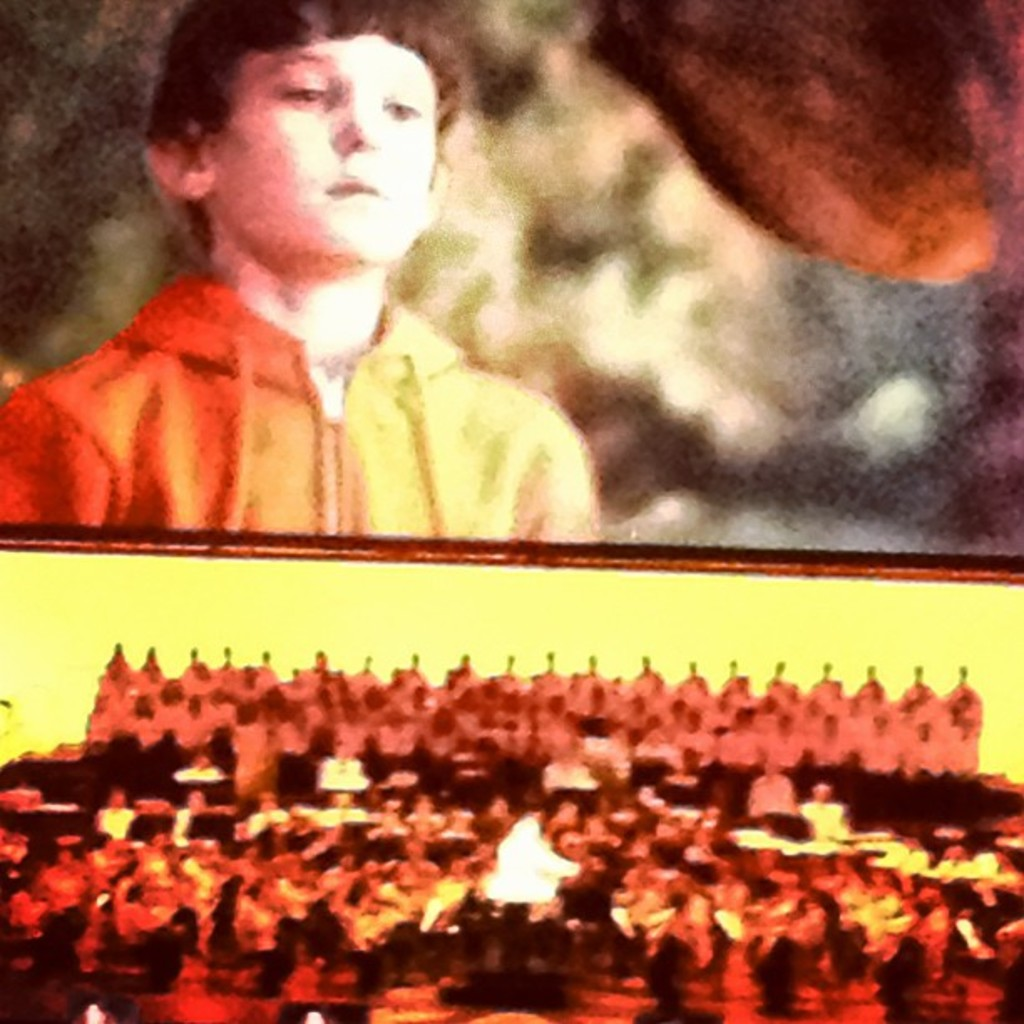Human-face: (211, 30, 437, 266)
